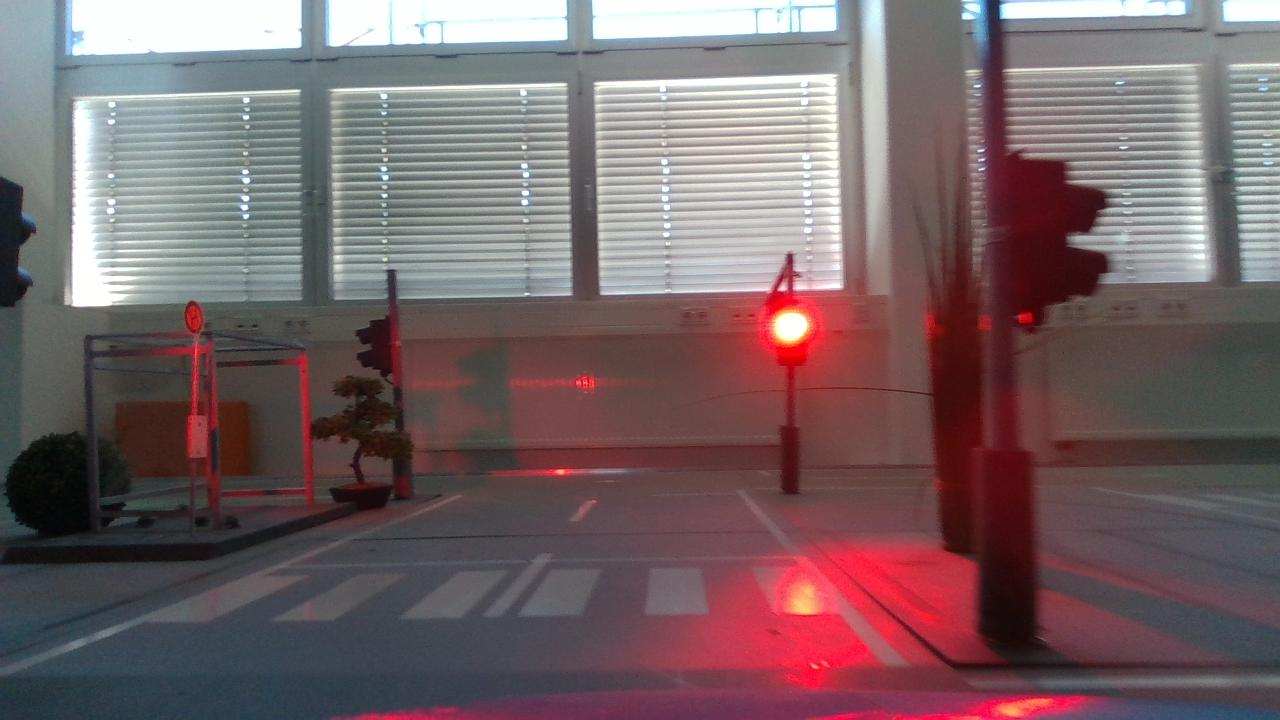traffic_light_red: (767, 312, 820, 369)
